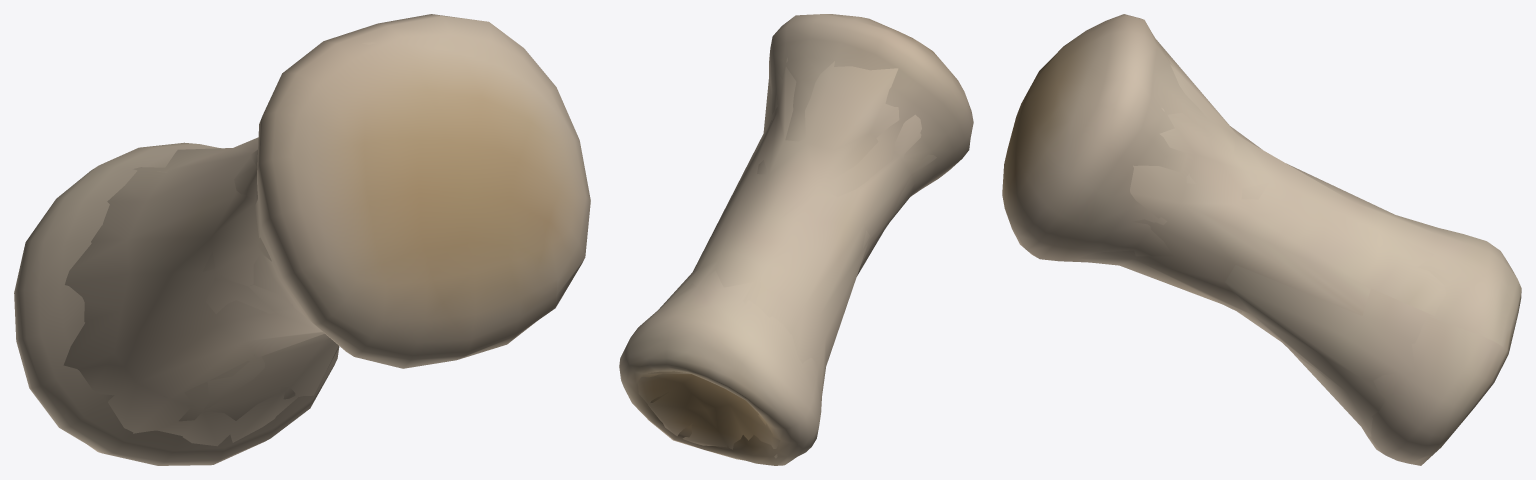
Rendered from vertebrae caudales 04.fbx.
The picture shows the model from 3 angles, left to right: view 1: azimuth 30°, elevation 25°; view 2: azimuth 150°, elevation 25°; view 3: azimuth 270°, elevation 25°; orthographic projection. The views are drawn at different scales.
Parts seen in each view (by area): view 1: vertebrae caudales 04, vertebrae caudales 04 low; view 2: vertebrae caudales 04 low, vertebrae caudales 04; view 3: vertebrae caudales 04, vertebrae caudales 04 low.
Part boxes in pixels (left/top/right/bottom): vertebrae caudales 04: left=14, top=14, right=590, bottom=465; vertebrae caudales 04 low: left=63, top=42, right=375, bottom=446; vertebrae caudales 04 low: left=637, top=24, right=936, bottom=458; vertebrae caudales 04: left=619, top=14, right=973, bottom=465; vertebrae caudales 04: left=1002, top=14, right=1521, bottom=465; vertebrae caudales 04 low: left=1078, top=24, right=1446, bottom=437.
Size of the model in its own units: 2.3 by 4.1 by 4.65.
1 material, 1 textured.
